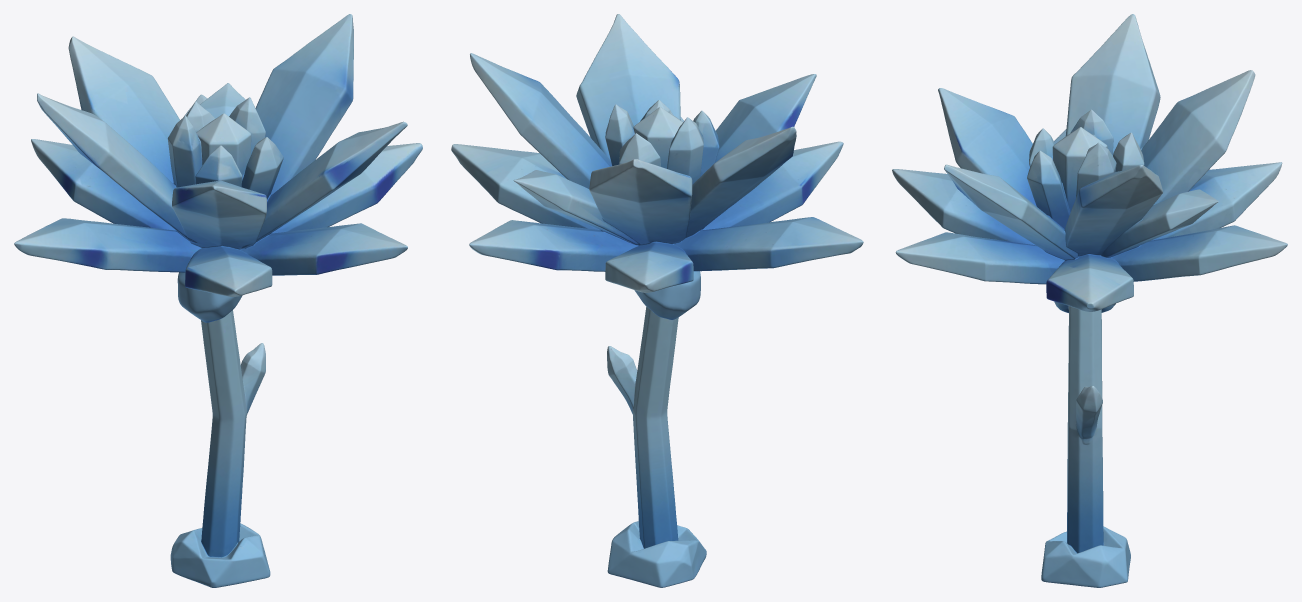
Rendered from frost_crystal_flower.glb.
3 views of the same model, side by side, from view 1: azimuth 30°, elevation 25°; view 2: azimuth 150°, elevation 25°; view 3: azimuth 270°, elevation 25° (orthographic). The views are drawn at different scales.
Parts seen in each view (by area): view 1: Mesh::generatedModels/HQbDmlqdT4abMYELd6en.gltf; view 2: Mesh::generatedModels/HQbDmlqdT4abMYELd6en.gltf; view 3: Mesh::generatedModels/HQbDmlqdT4abMYELd6en.gltf.
Boxes of the visible parts, <box> form: Mesh::generatedModels/HQbDmlqdT4abMYELd6en.gltf: <box>14,14,422,587</box>; Mesh::generatedModels/HQbDmlqdT4abMYELd6en.gltf: <box>451,14,863,587</box>; Mesh::generatedModels/HQbDmlqdT4abMYELd6en.gltf: <box>892,14,1287,587</box>.
Size of the model in its own units: 0.8645 by 1 by 0.747.
1 material, 1 textured.
